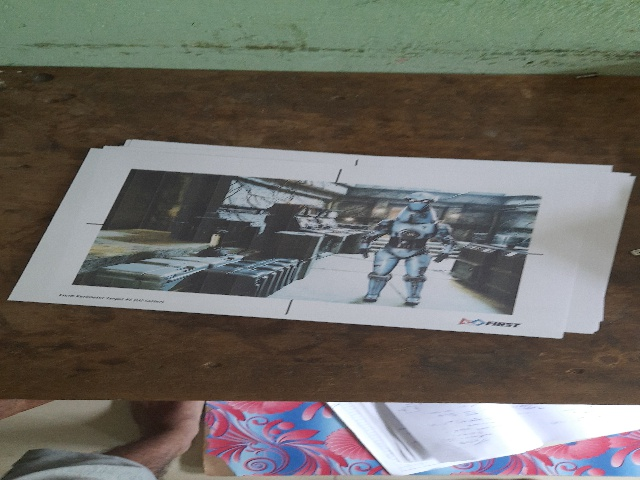fpt1: (79, 157, 539, 324)
